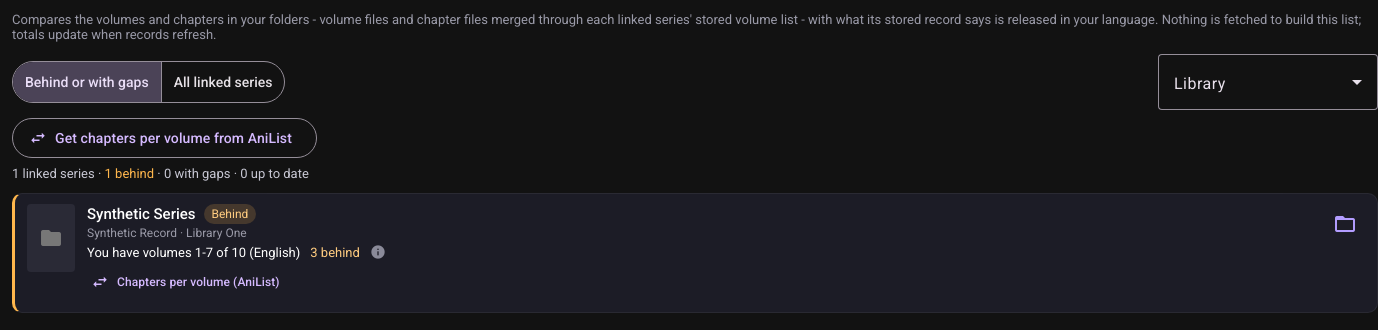
MissingReportComponent › asks AniList for one row and replaces it with the recomputed row
The image size is (1378, 330).
Click the button with test id "missing-convert-one" at (187, 282), box left=79, top=262, right=296, bottom=302
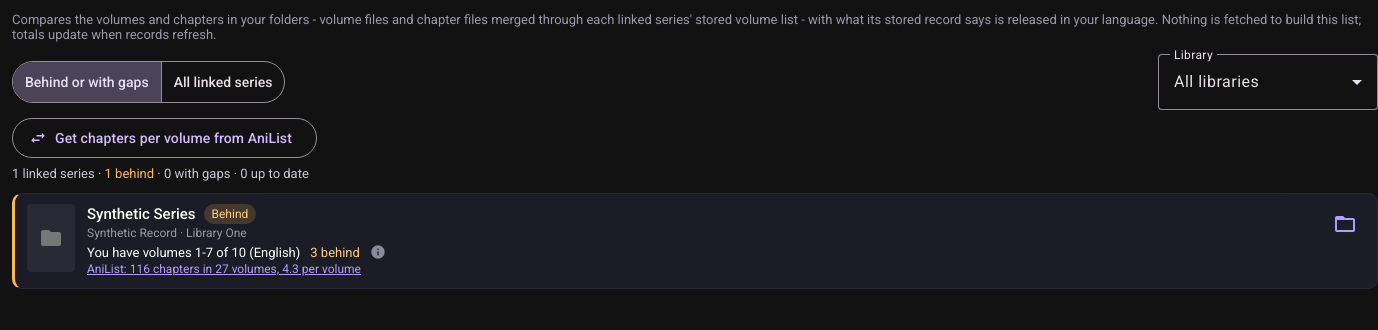
Expected: the link "AniList: 116 chapters in 27 volumes, 4.3 per volume" is shown, left=87, top=262, right=361, bottom=276
Expected: the button with test id "missing-convert-one" is gone
